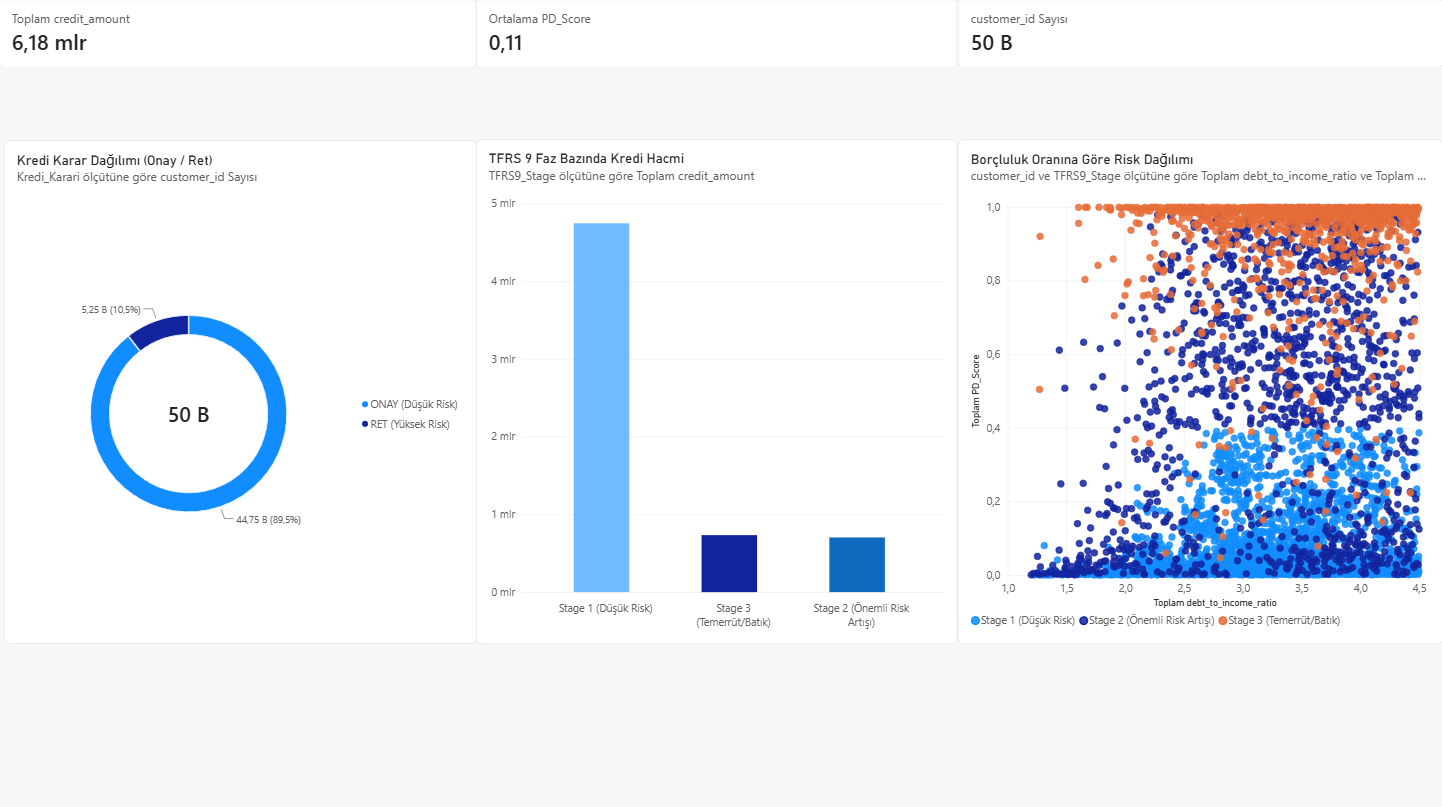

Layout of this report page (visuals, bound fields, positions):
{"tool":"powerbi","page":{"name":"Portföy Risk Özeti","canvas":[1920,1080],"ordinal":0},"visuals":[{"type":"cardVisual","fields":{"Data":["Sum(Sheet1.credit_amount)"]},"box":[0,0,635,95],"z":0},{"type":"cardVisual","fields":{"Data":["Avg(Sheet1.PD_Score)"]},"box":[635,0,640,95],"z":1000},{"type":"cardVisual","fields":{"Data":["CountNonNull(Sheet1.customer_id)"]},"box":[1275,0,645,95],"z":2000},{"type":"donutChart","title":"Kredi Karar Dağılımı (Onay / Ret)","fields":{"Category":["Sheet1.Kredi_Karari"],"Y":["CountNonNull(Sheet1.customer_id)"]},"box":[6,190,630,670],"z":3000},{"type":"clusteredColumnChart","title":"TFRS 9 Faz Bazında Kredi Hacmi","fields":{"Category":["Sheet1.TFRS9_Stage"],"Y":["Sum(Sheet1.credit_amount)"]},"box":[635,188.3,640,671.7],"z":4000},{"type":"scatterChart","title":"Borçluluk Oranına Göre Risk Dağılımı","fields":{"Category":["Sheet1.customer_id"],"Series":["Sheet1.TFRS9_Stage"],"X":["Sum(Sheet1.debt_to_income_ratio)"],"Y":["Sum(Sheet1.PD_Score)"]},"box":[1275,188.3,645,671.7],"z":5000}]}

Visuals, with their boxes in screenshot pixels (x1, y1, x2, y2), scaled from the page's 1920x1080 canvas onto the 1442x807 screenshot:
cardVisual - Sum(Sheet1.credit_amount): <box>0,0,477,71</box>
cardVisual - Avg(Sheet1.PD_Score): <box>477,0,958,71</box>
cardVisual - CountNonNull(Sheet1.customer_id): <box>958,0,1441,71</box>
"Kredi Karar Dağılımı (Onay / Ret)" donutChart: <box>5,142,478,643</box>
"TFRS 9 Faz Bazında Kredi Hacmi" clusteredColumnChart: <box>477,141,958,643</box>
"Borçluluk Oranına Göre Risk Dağılımı" scatterChart: <box>958,141,1441,643</box>
